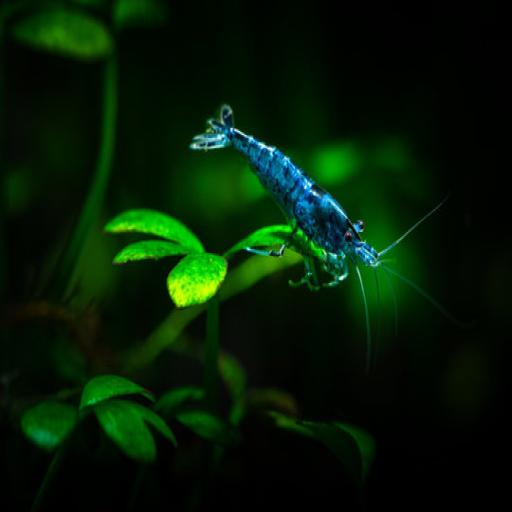Shrimp: (178, 88, 456, 330)
